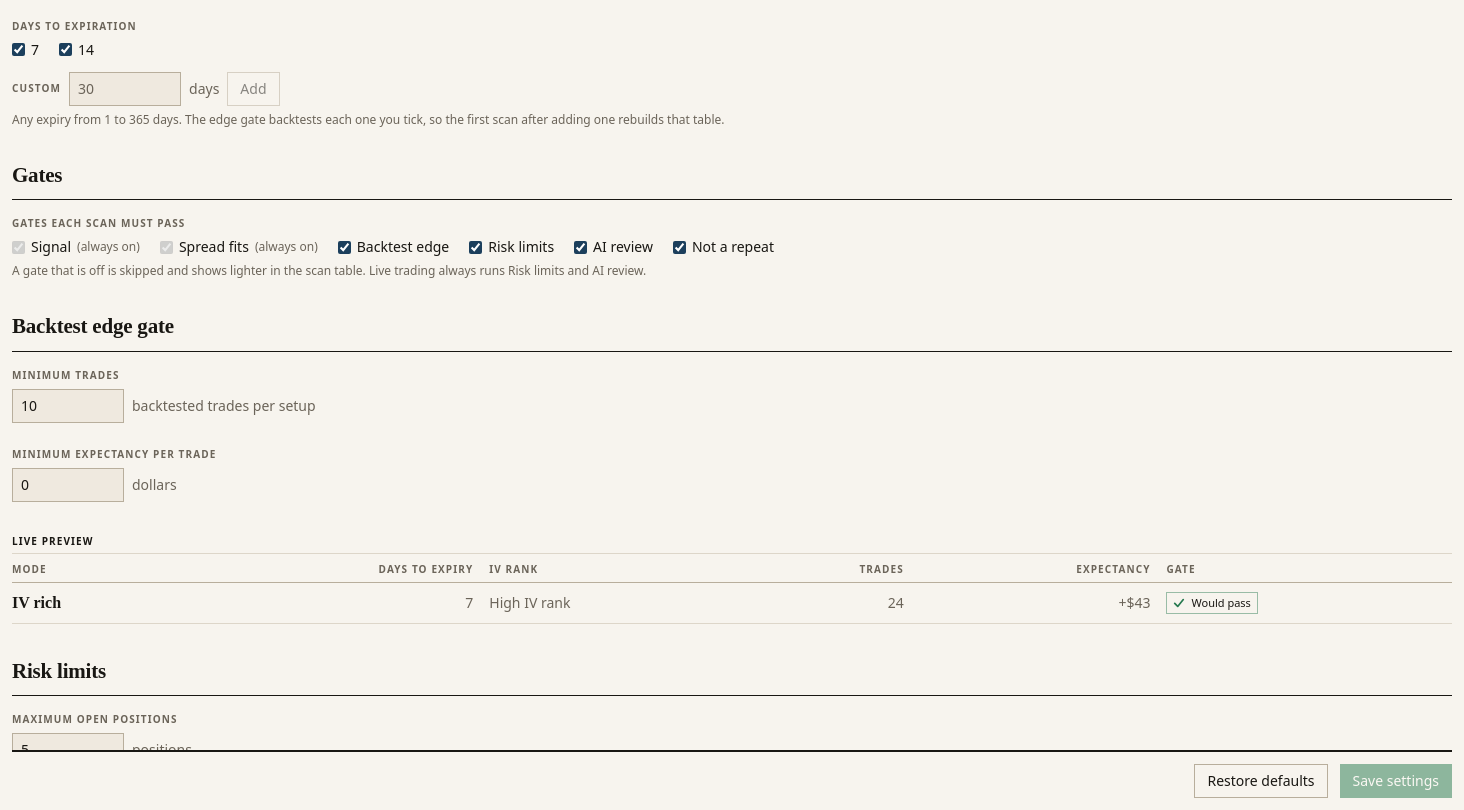
Test: Settings › re-gates the edge preview as the minimum trades changes
The width and height of the screenshot is (1464, 810).
(page scrolled)
Expected: the text "Would pass" is shown, 1166,592 -> 1258,614
Replace the text in the number field labelled "Minimum trades" with "100" at (68, 406), box 12,388 -> 124,422
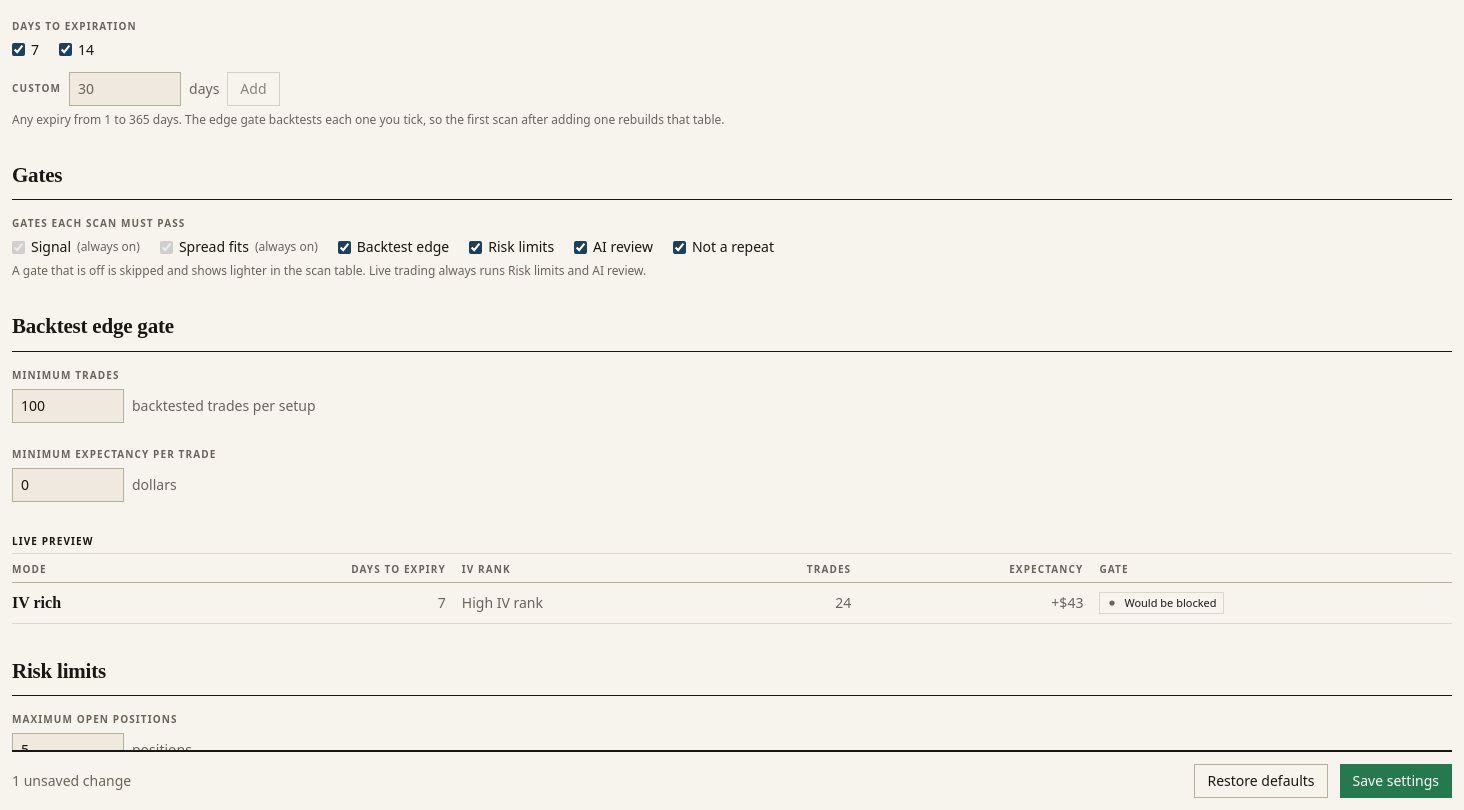
Expected: the text "Would be blocked" is shown, 1099,592 -> 1224,614
